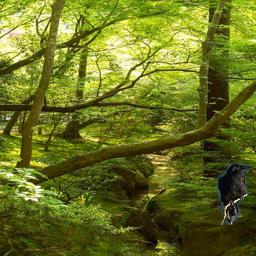Crow: (218, 163, 253, 225)
